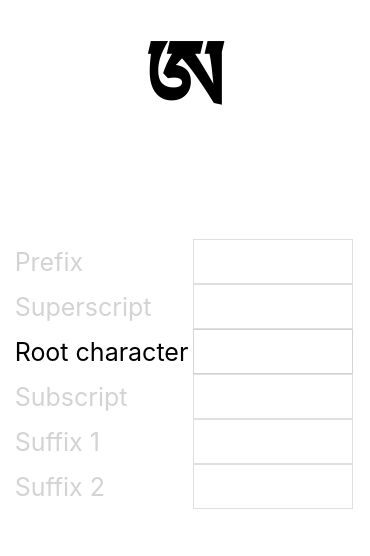
Test: returns the correct result: with root sound change and diairesis
This screenshot has width=370, height=556.
Select "ག" in the dropdown next to "Root character": (273, 352) [193,329,353,374]
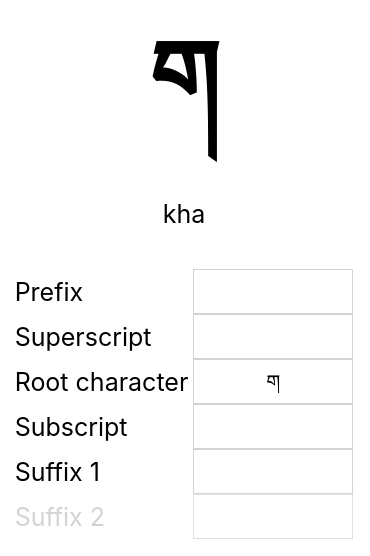
Select "ས" in the dropdown with id "superscript": (273, 336) [193,314,353,359]
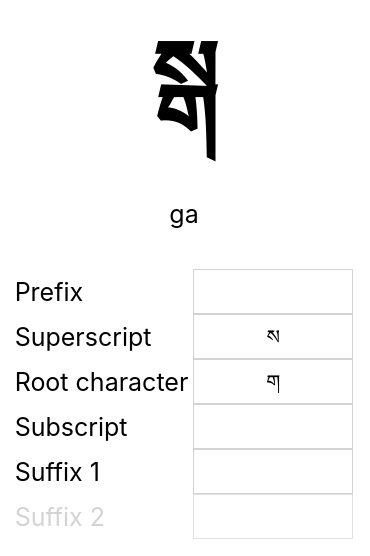
Select "ར" in the dropdown with id "subscript": (273, 426) [193,404,353,449]
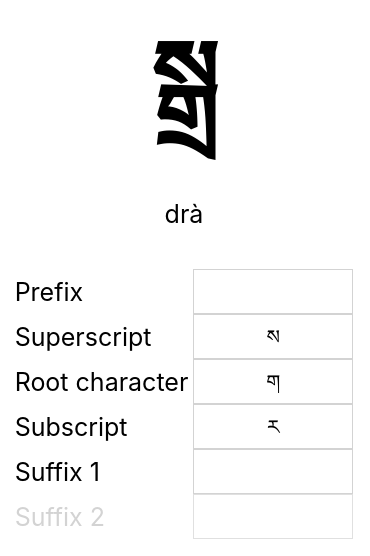
Select "ལ" in the dropdown with id "suffix": (273, 472) [193,449,353,494]
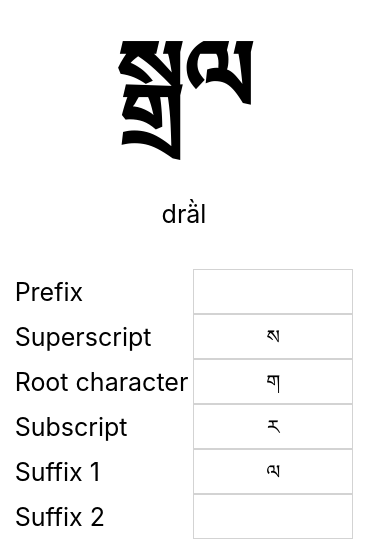
Check: the text with class "display--transliteration" reads "drä̀l", box [162,199,206,229]
Check: the heading "སྒྲལ" is shown, box [115,16,253,137]
